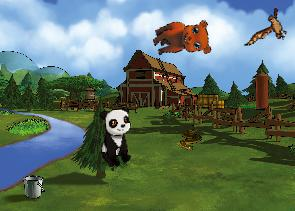bear: (148, 12, 216, 69)
eagle: (244, 1, 294, 58)
panda: (98, 106, 134, 168)
